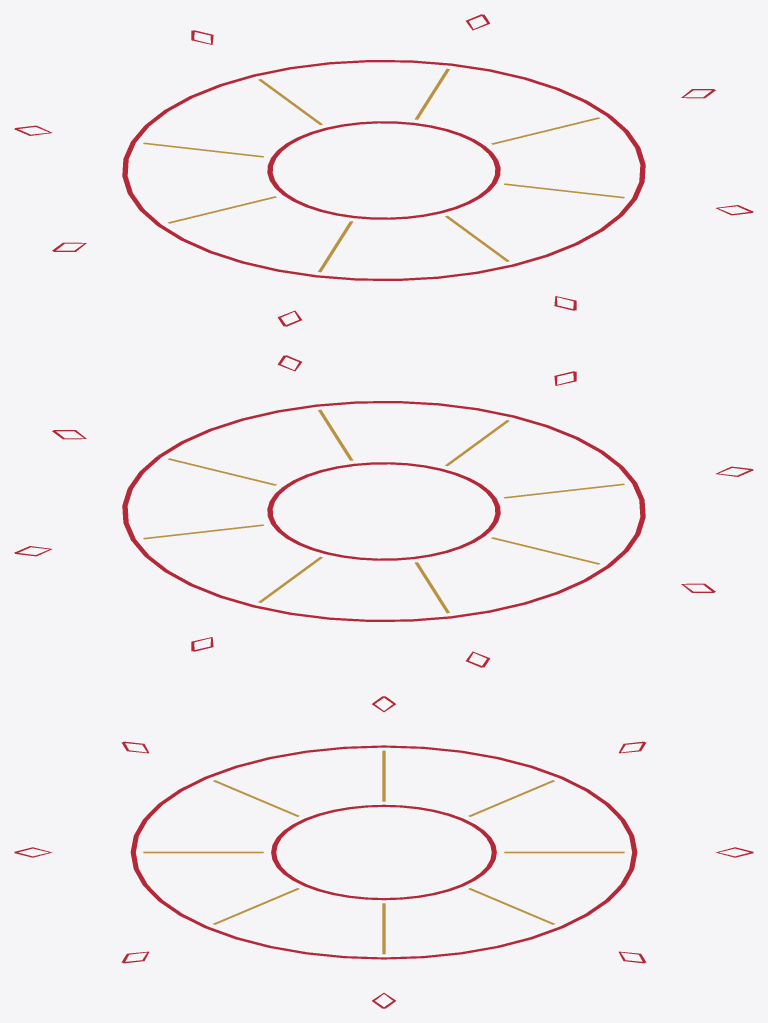
The model's file is arena_energia.fbx.
3 renders of one model, top to bottom at view 1: azimuth 30°, elevation 25°; view 2: azimuth 150°, elevation 25°; view 3: azimuth 270°, elevation 25°, orthographic. The views are drawn at different scales.
Visible parts, largest first — view 1: arena_energia; view 2: arena_energia; view 3: arena_energia.
Part boxes in pixels (box(x1,y1,x2,y2)): arena_energia: box(14, 14, 753, 326); arena_energia: box(14, 355, 753, 667); arena_energia: box(14, 696, 753, 1008).
Size of the model in its own units: 36.88 by 1.61e-06 by 36.88.
